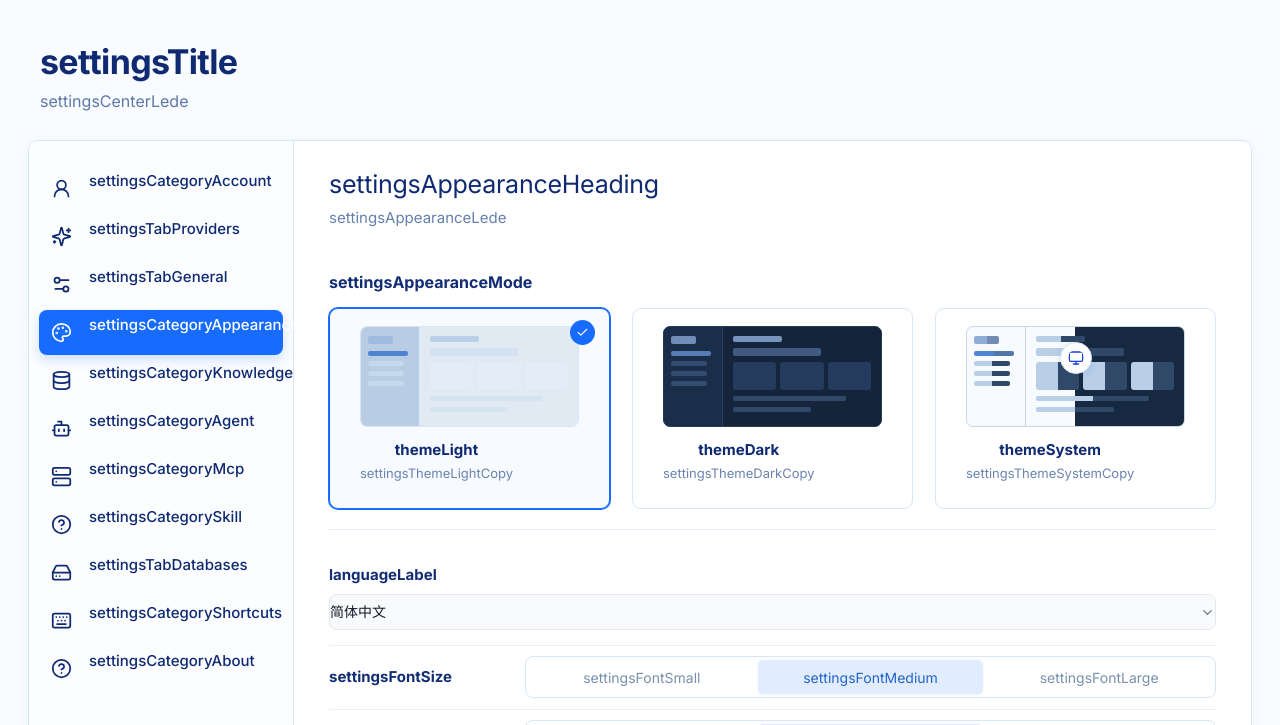
Scenario: SettingsPage › loads provider cards and never displays a configured secret
Expected: the heading "settingsTitle" is shown, [40,42,237,81]
Expected: the dropdown named "languageLabel" is shown, [329,594,1216,630]
Click the tab "settingsTabProviders": x=161, y=237 [39,214,283,259]
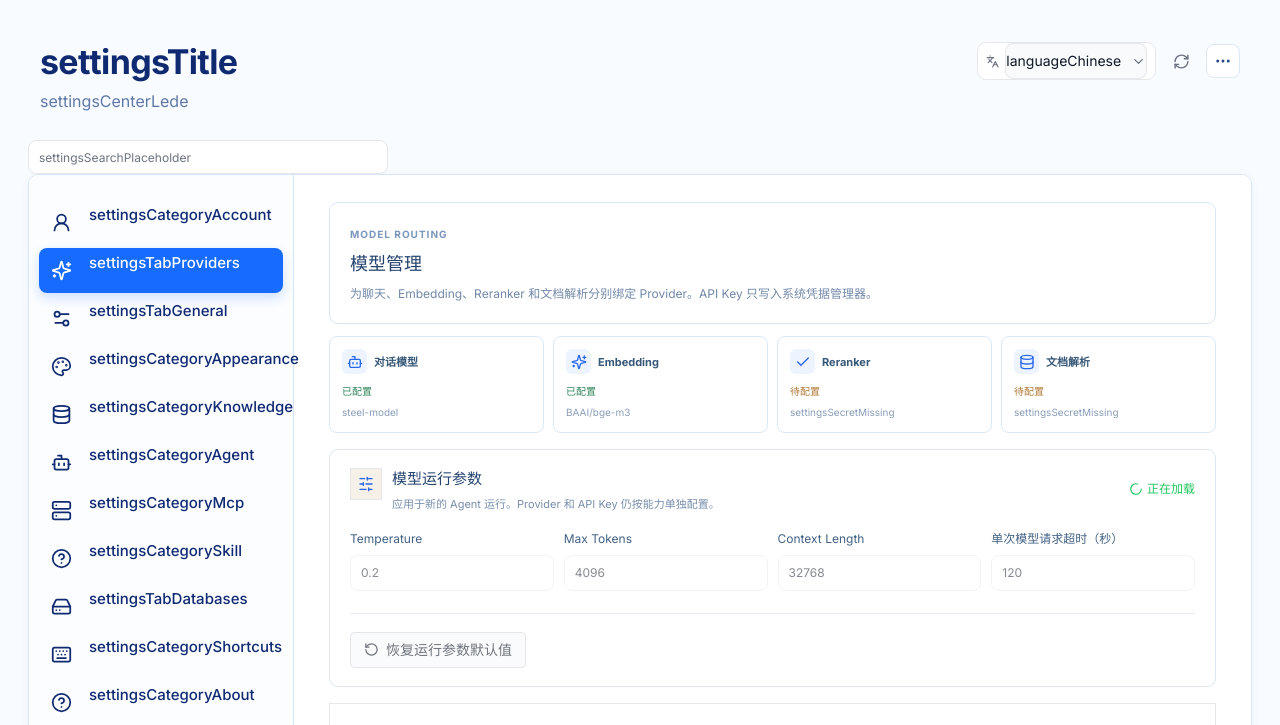
Click the tab "settingsCategoryAppearance": x=161, y=367 [39,344,283,389]
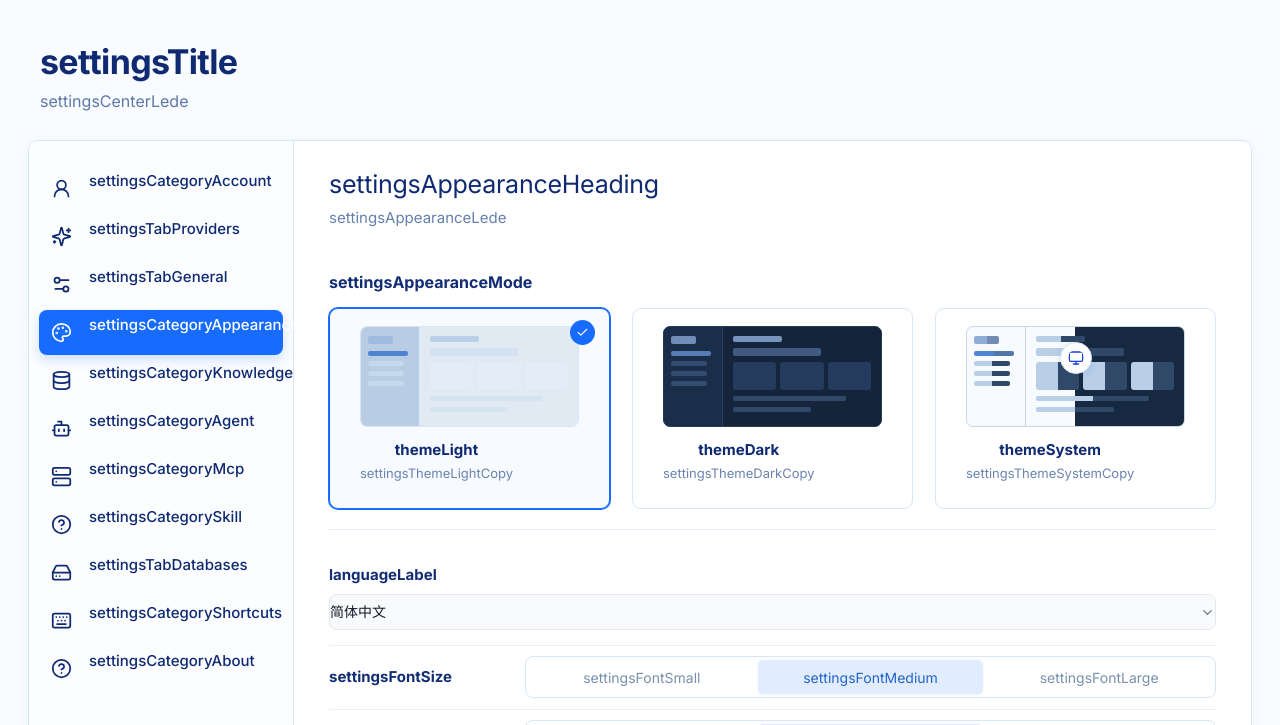
Now the element named "themeTitle" is shown, box [329,308,1216,509]
Now the button "themeSystem settingsThemeSystemCopy" is shown, box [935,308,1216,509]
Now the button "themeLight settingsThemeLightCopy" is shown, box [329,308,610,509]
Click the tab "settingsTabGeneral": x=161, y=285 [39,262,283,307]
(page scrolled)
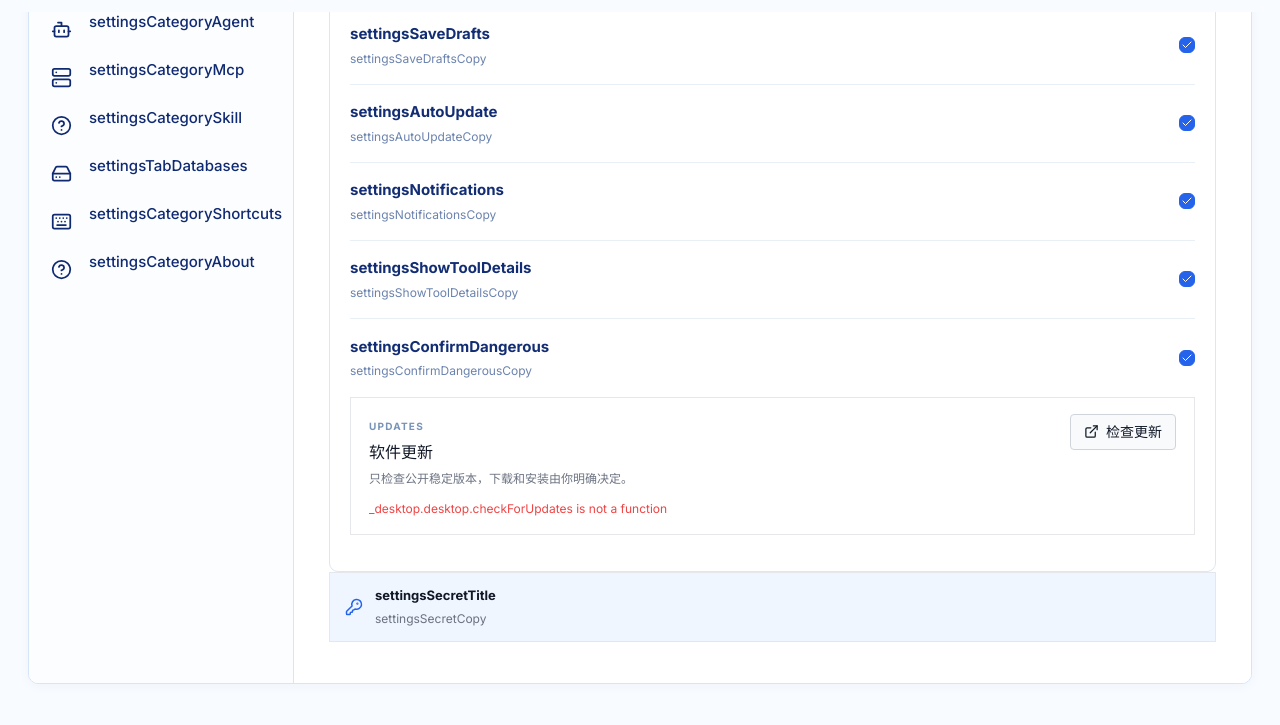
Now the text "settingsSecretCopy" is shown, box [375,609,496,628]
